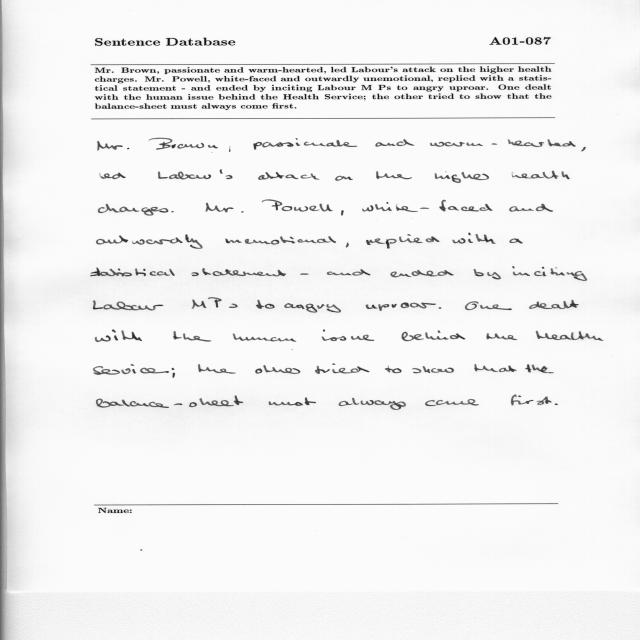word: (96, 395, 243, 408), (97, 234, 203, 249), (362, 200, 493, 212), (254, 138, 358, 150), (430, 139, 576, 147), (512, 266, 587, 281), (366, 234, 440, 249), (226, 236, 337, 245), (262, 200, 333, 212), (149, 138, 219, 150), (93, 364, 169, 375), (339, 398, 406, 410), (99, 204, 169, 215), (94, 300, 164, 311), (191, 268, 286, 276), (91, 268, 175, 277), (158, 170, 233, 180), (402, 330, 466, 341), (536, 331, 603, 341), (366, 302, 436, 311), (95, 329, 142, 342), (435, 172, 489, 183), (322, 330, 374, 341), (284, 303, 341, 313), (192, 297, 238, 309), (315, 364, 369, 374), (233, 334, 297, 342), (259, 172, 320, 180), (453, 233, 496, 244), (512, 171, 570, 179), (529, 300, 579, 309), (390, 270, 454, 277), (268, 397, 316, 406), (465, 302, 512, 311), (173, 331, 211, 342), (511, 395, 552, 405), (256, 365, 301, 374), (198, 364, 236, 374), (425, 399, 479, 406), (206, 203, 243, 213), (509, 204, 553, 212), (474, 364, 517, 372), (98, 141, 130, 151), (376, 139, 415, 147), (327, 269, 370, 276), (412, 366, 454, 373), (376, 172, 412, 180), (473, 269, 501, 279), (525, 365, 554, 374), (487, 333, 518, 340), (256, 300, 275, 309), (100, 173, 126, 179), (385, 366, 401, 374), (335, 176, 353, 181), (509, 239, 523, 244), (172, 368, 175, 378), (581, 147, 586, 151), (341, 210, 344, 216), (300, 273, 309, 275), (346, 243, 349, 248), (229, 146, 231, 152), (171, 211, 174, 213), (439, 307, 442, 309), (555, 404, 558, 405)
